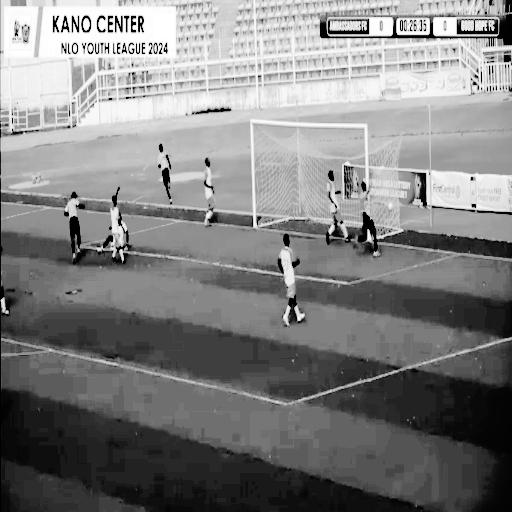ball: (385, 196, 394, 214)
keeper2: (96, 211, 130, 251)
team1: (348, 167, 384, 265), (66, 185, 88, 264), (154, 142, 179, 208)
team2: (271, 227, 314, 338), (320, 163, 351, 251), (193, 150, 222, 223), (110, 181, 124, 271)
